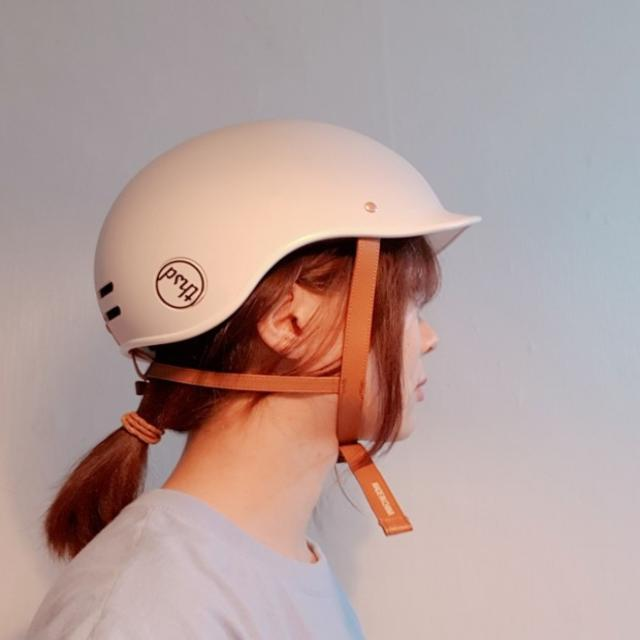Helmet: (80, 102, 493, 470)
